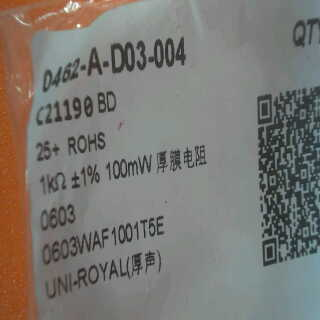1kR: (36, 169, 71, 197)
